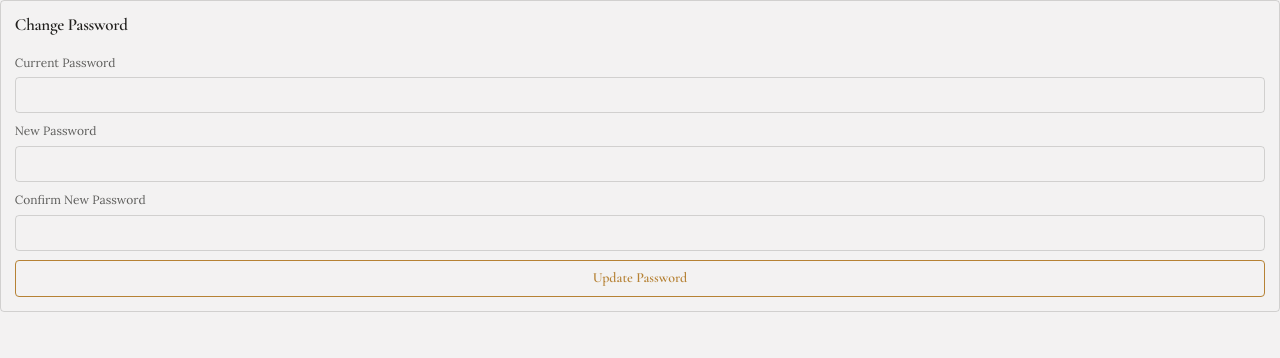
Test case: ChangePasswordForm › requires the new password and confirmation to match
Type "oldpassword1" into the password field labelled "Current Password".
click(640, 95); type("oldpassword1")  # box [15,77,1265,113]
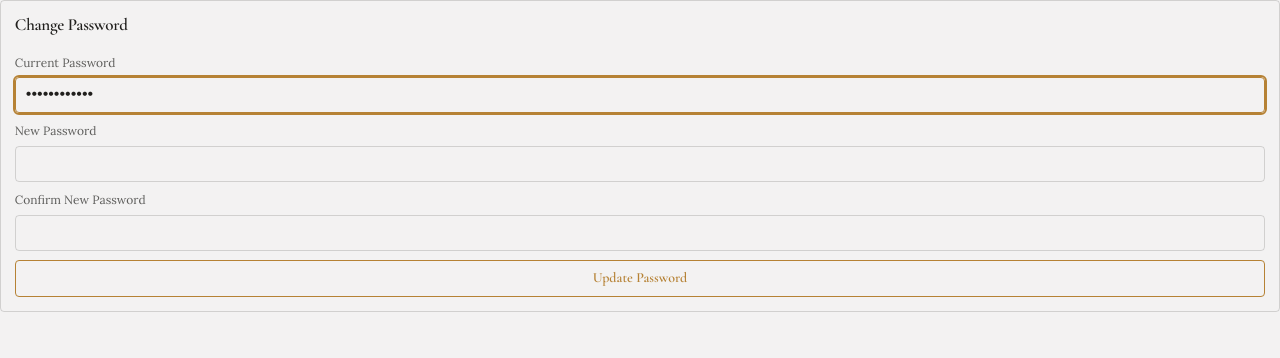
Type "newpassword123" into the password field labelled "New Password".
click(640, 164); type("newpassword123")  # box [15,146,1265,182]
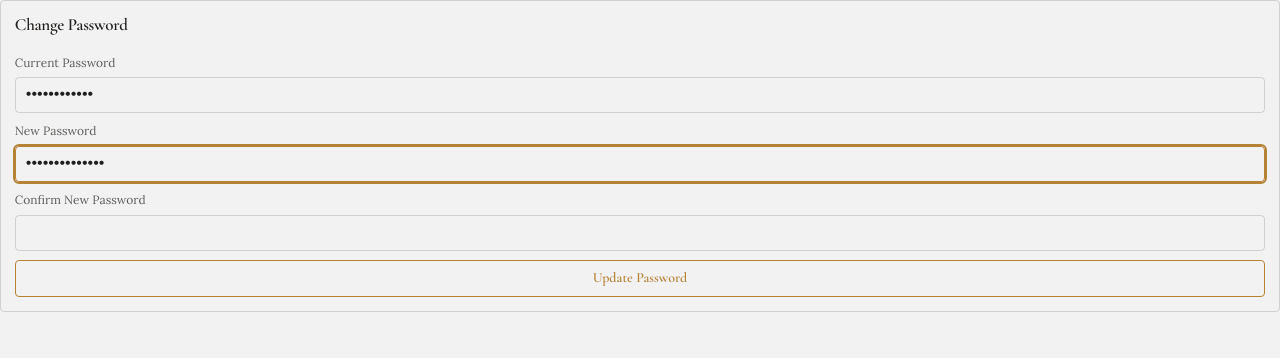
Type "newpassword124" into the password field labelled "Confirm New Password".
click(640, 233); type("newpassword124")  # box [15,215,1265,251]
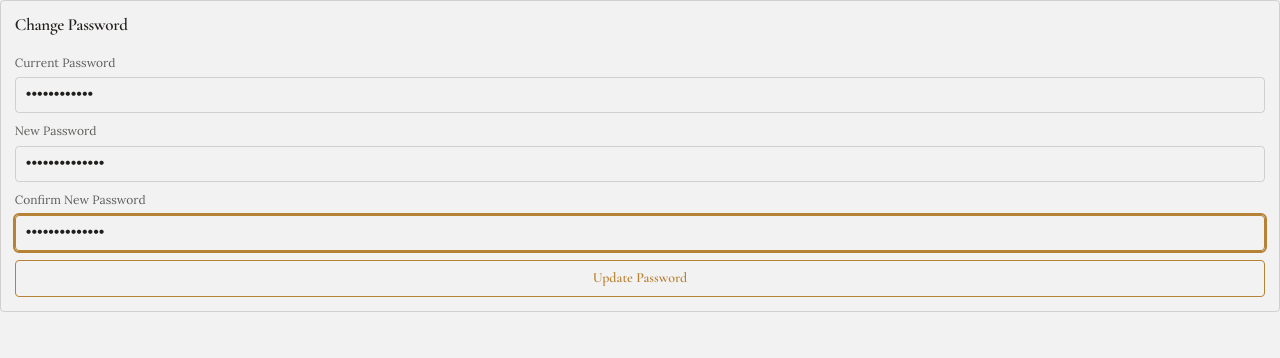
Click the button "Update Password".
click(640, 278)  # box [15,260,1265,297]
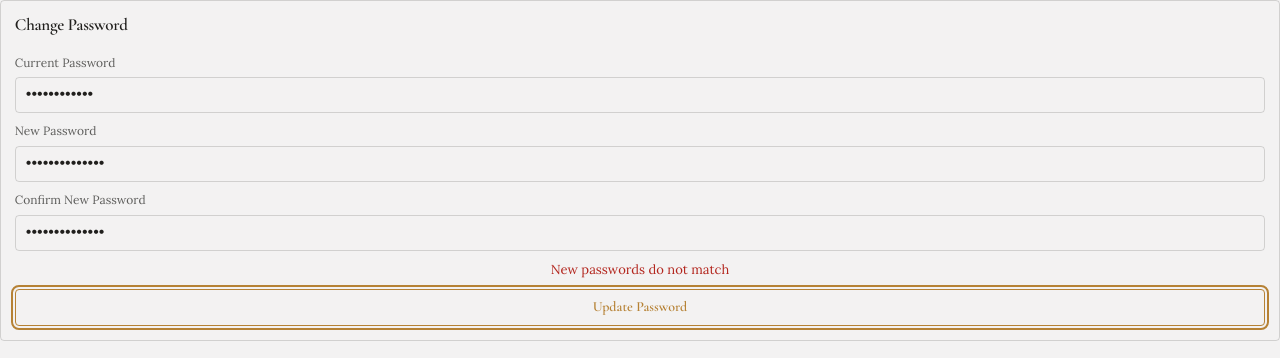
Check: the text "New passwords do not match" is shown, box [551,261,729,278]
